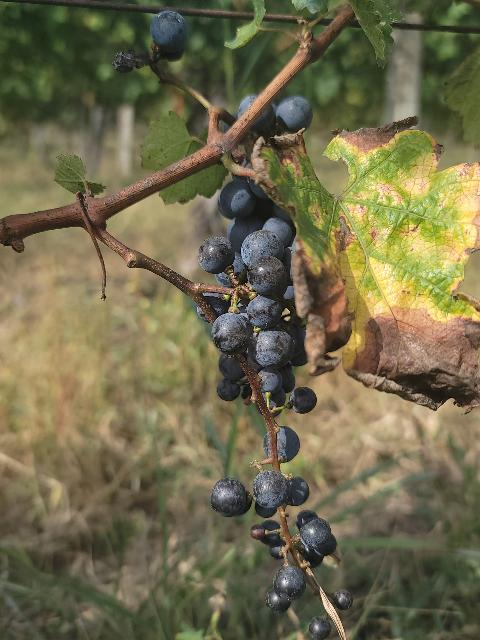grapes: (195, 180, 345, 640), (198, 179, 316, 519)
